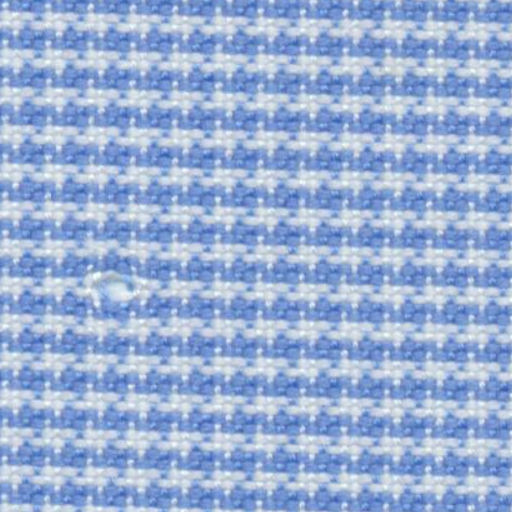PoDong: (64, 246, 164, 334)
